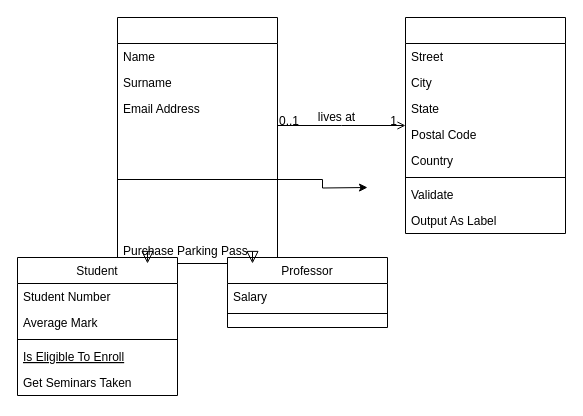
Some shapes in this 583 by 416 pixel diagram are drawn without their labels. Each missing label, with the box of its shape:
Address: (404, 16, 566, 234)
user: (116, 16, 278, 264)
